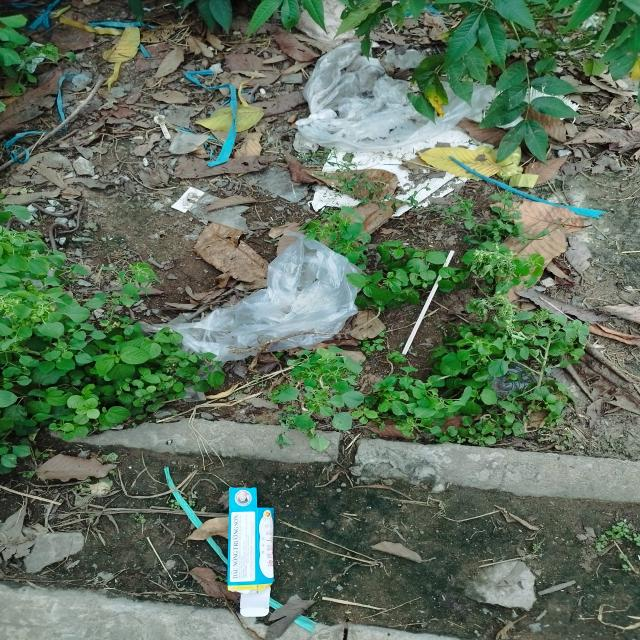bag: (140, 228, 363, 362), (293, 42, 495, 153)
cardboard box: (227, 487, 275, 618)
drinking straw: (402, 250, 456, 355)
plastic utensil: (154, 114, 171, 140)
